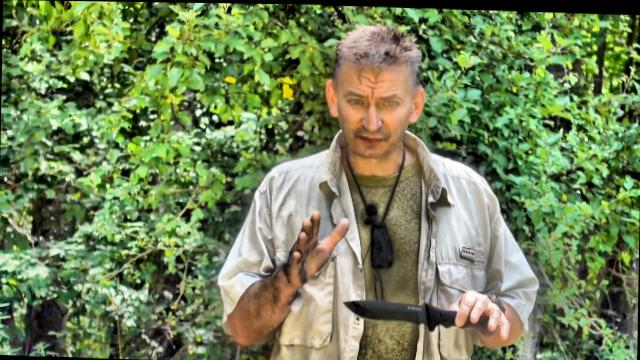knife: (338, 281, 510, 342)
